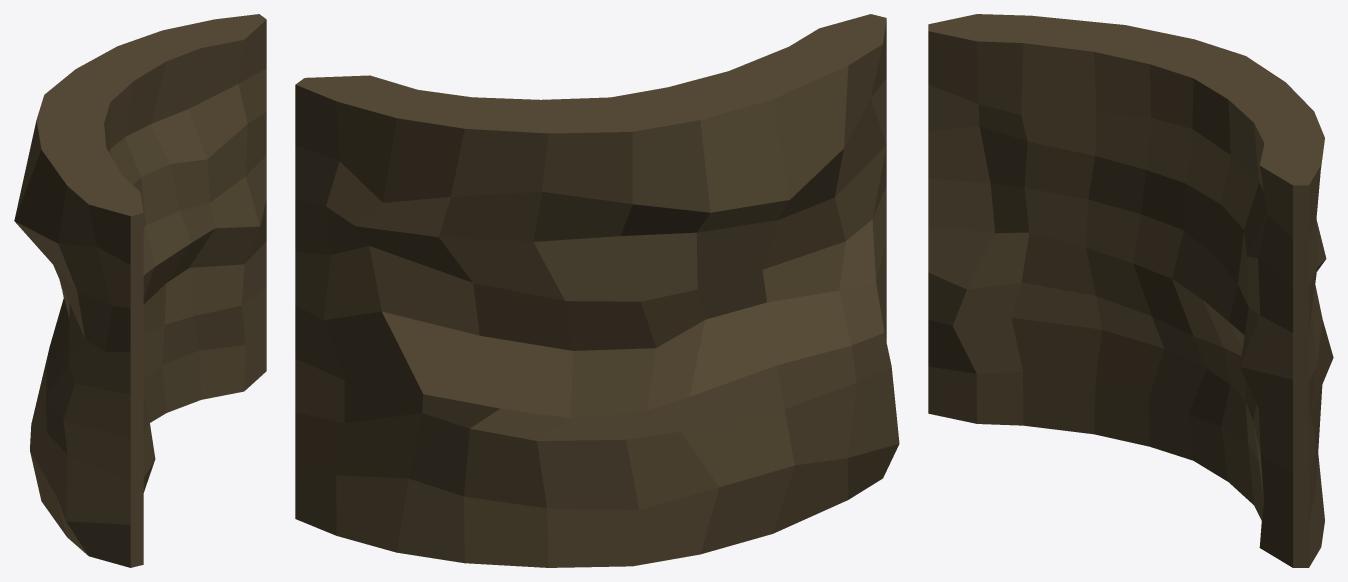
File: BigCorner.2.fbx
3 renders of one model, left to right at view 1: azimuth 30°, elevation 25°; view 2: azimuth 150°, elevation 25°; view 3: azimuth 270°, elevation 25°, orthographic. The views are drawn at different scales.
Visible parts, largest first — view 1: Big_Wall Corner.2; view 2: Big_Wall Corner.2; view 3: Big_Wall Corner.2.
Part boxes in pixels (x1=…): Big_Wall Corner.2: x1=14, y1=14, x2=266, y2=567; Big_Wall Corner.2: x1=295, y1=14, x2=899, y2=567; Big_Wall Corner.2: x1=928, y1=14, x2=1333, y2=567.
Size of the model in its own units: 1320 by 1300 by 1248.
